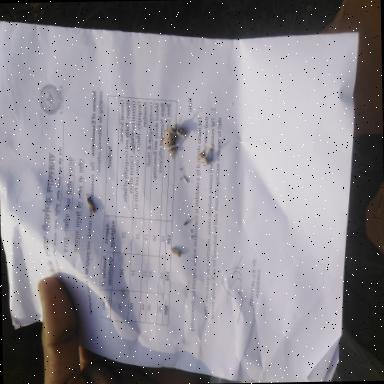pbw: (85, 195, 96, 214), (170, 248, 182, 258)
